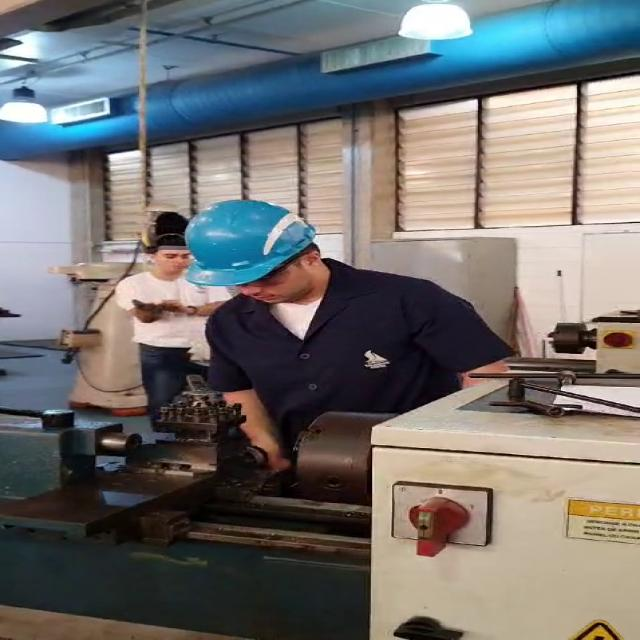oculos-epi: (251, 256, 306, 286)
sem_oculos: (137, 251, 194, 263)
